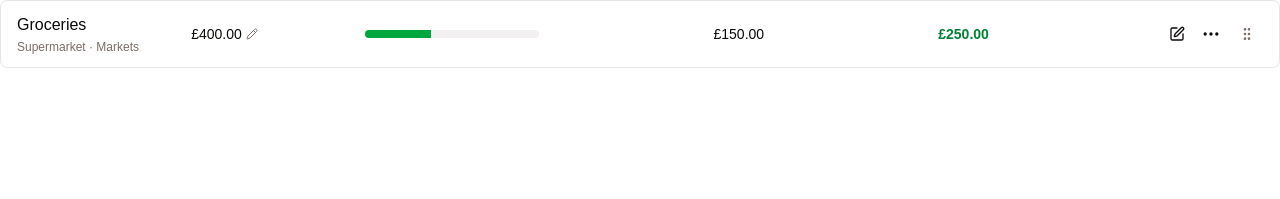
Test: EnvelopeRow on phones › keeps the editor and draft after a failed save
Step 1. Click the button named "Edit assigned amount for Groceries" → (224,34), box [187,18,262,50]
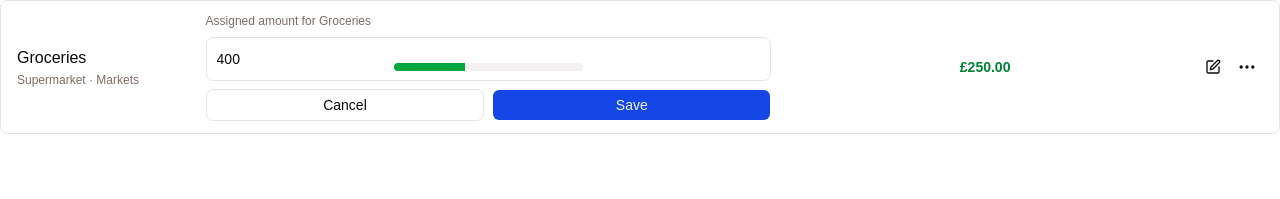
Step 2. Replace the text in the number field with "123" → (488,59), box [206,37,771,81]
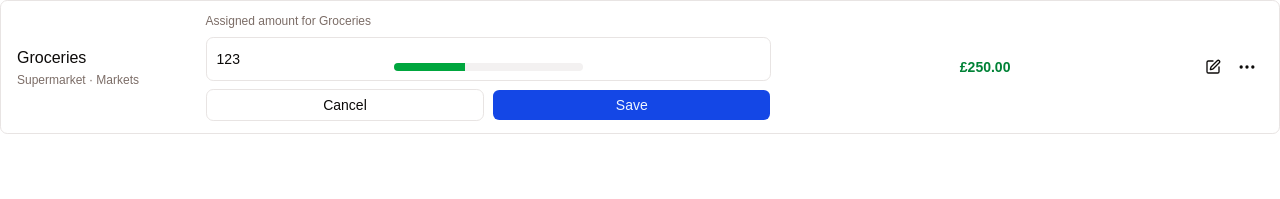
Step 3. Click the button "Save" → (632,105), box [492,89,771,121]
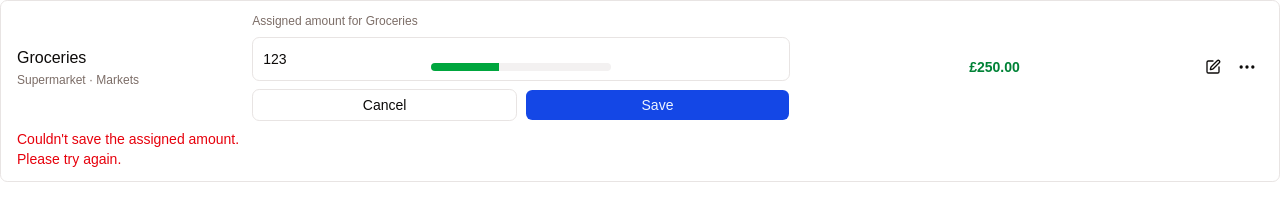
Check: the message shows "Couldn't save", box [17,131,239,167]
